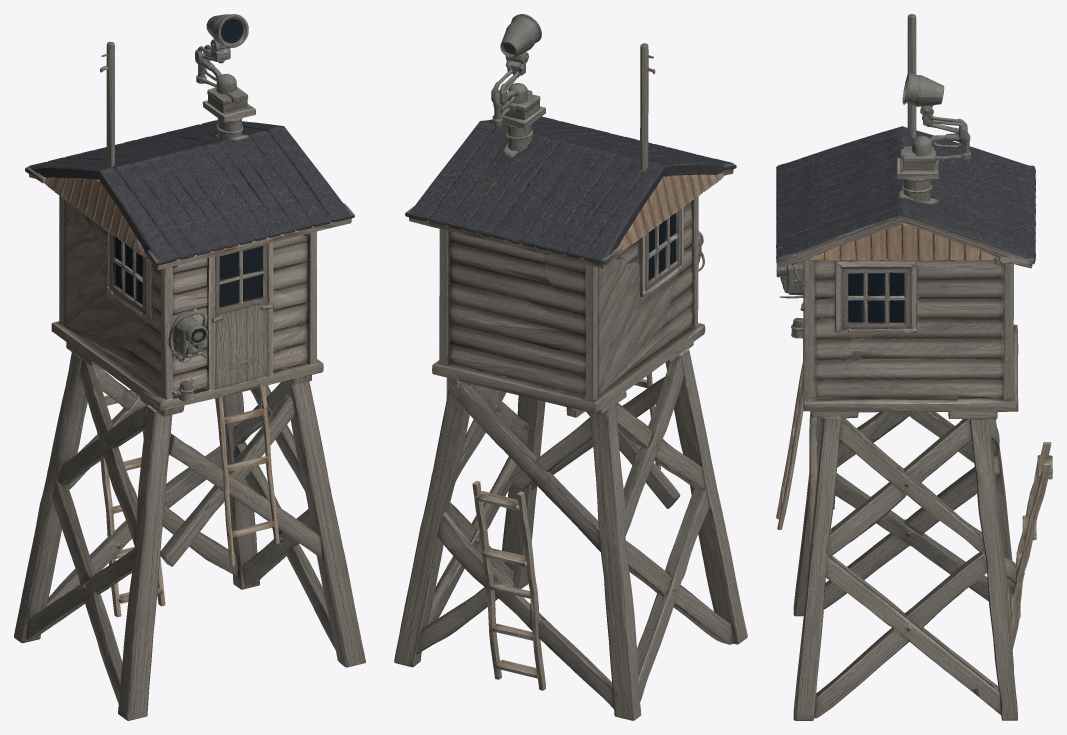
Rendered from guard_tower.glb.
3 views of the same model, side by side, from view 1: azimuth 30°, elevation 25°; view 2: azimuth 150°, elevation 25°; view 3: azimuth 270°, elevation 25° (orthographic). The views are drawn at different scales.
Size of the model in its own units: 0.7624 by 1.9 by 0.7787.
Materials: 1 (1 with a texture image).
